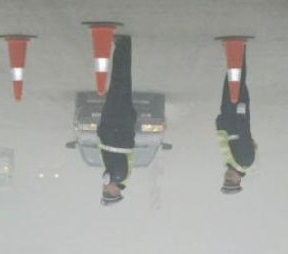person: (97, 30, 139, 209), (214, 45, 256, 199)
